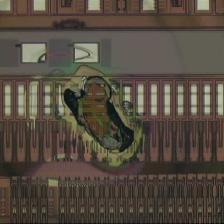COATING BAD: (45, 55, 153, 176)
